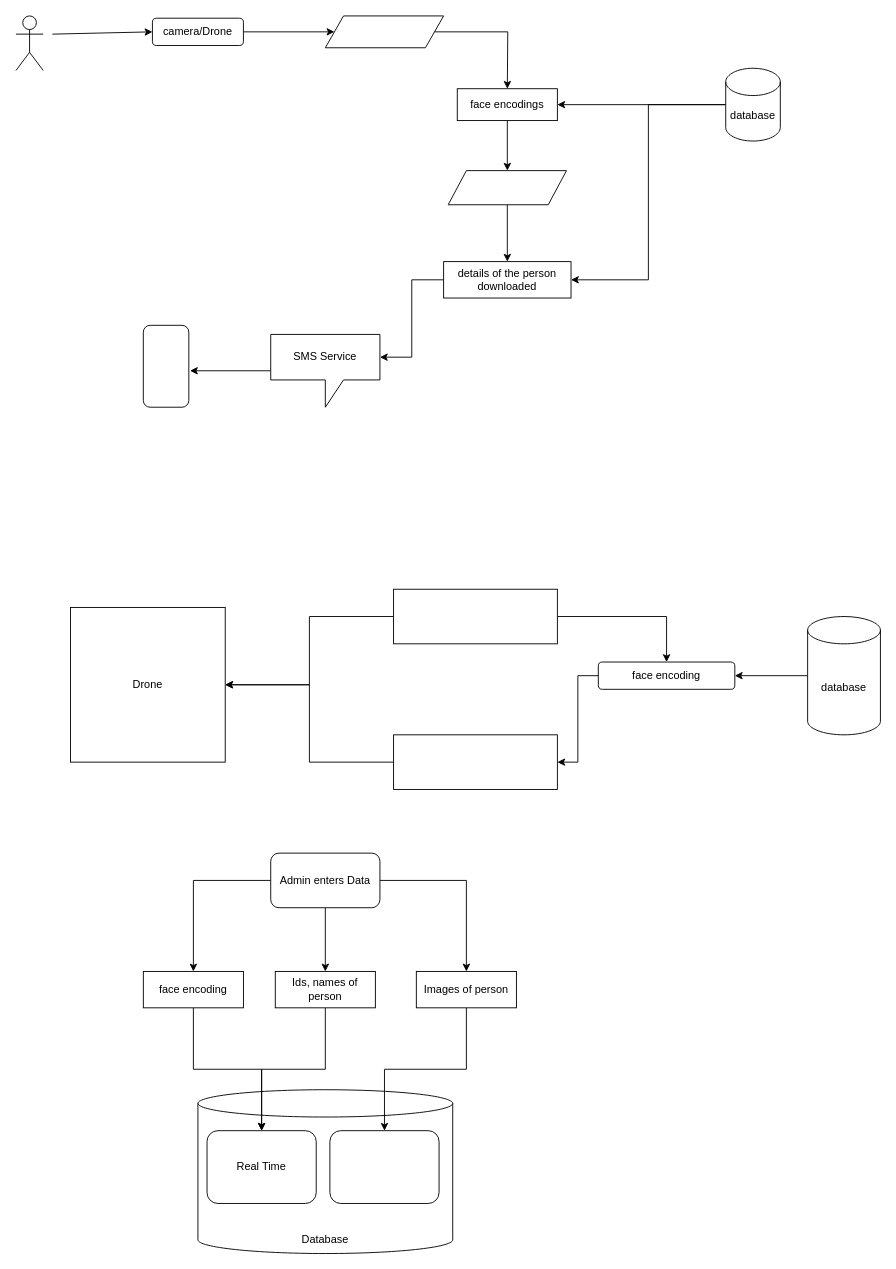
Some shapes in this 896 by 1269 pixel diagram are drawn without their labels. The shapes that lost their labels are listed below. From the top down, each one's centre as x and y in pixels, then its label:
point (29, 43): Actor
point (384, 31): face detection
point (506, 187): face recognition
point (165, 365): SMS to Admin
point (475, 616): face detection algorithm
point (475, 761): face recognition algorithm
point (384, 1166): Storage
